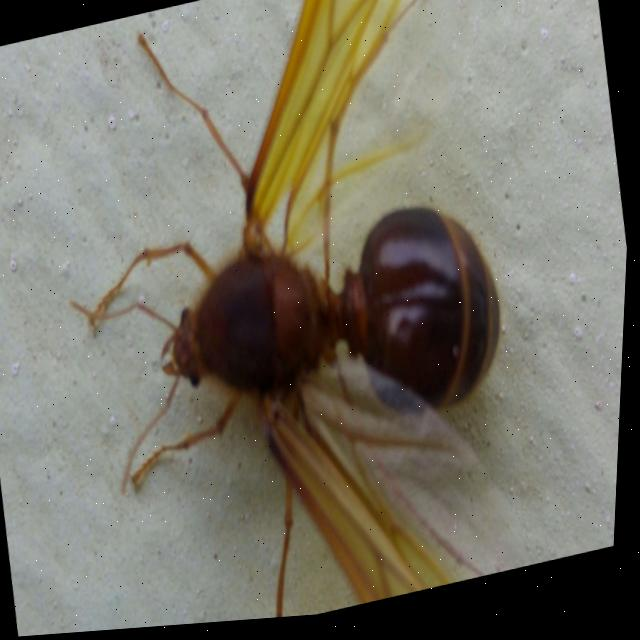Alive-Male-Alate: (16, 0, 568, 638)
